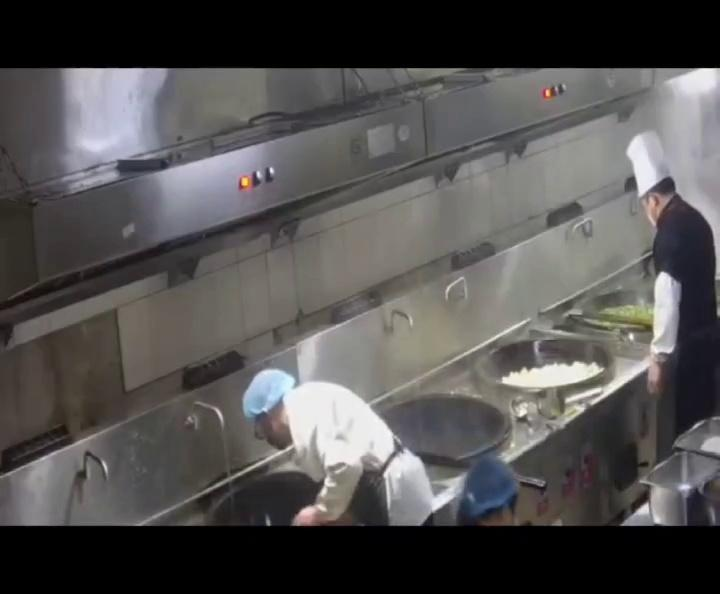gloves: (463, 453, 520, 510), (241, 366, 292, 412)
